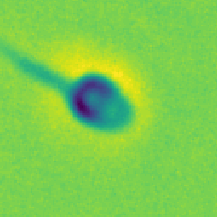normal: (1, 26, 73, 93)
